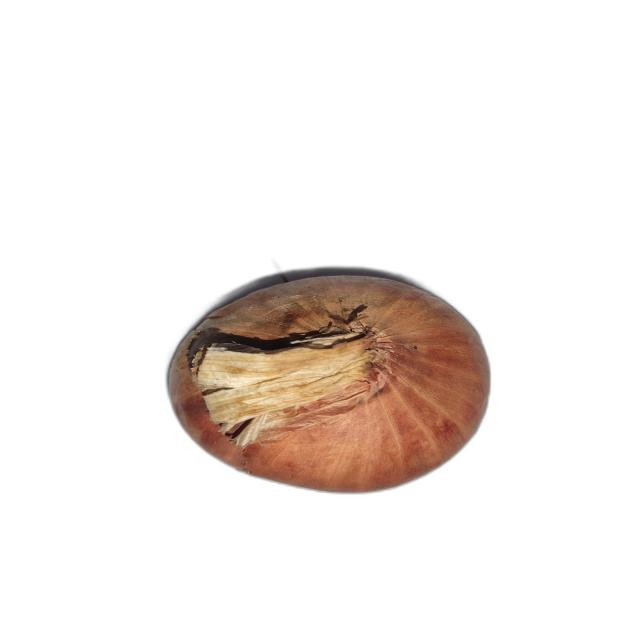onion: (168, 273, 492, 496)
